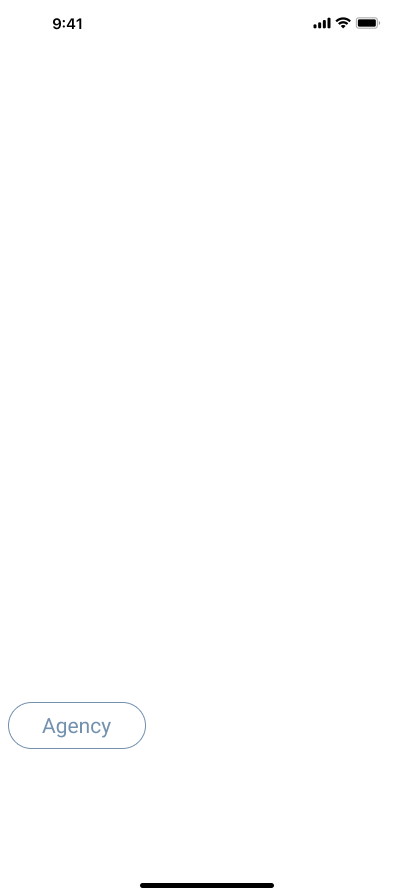Buttons: (8, 702, 154, 749)
Home Indicator: (0, 862, 414, 896)
Status Bar: (0, 0, 414, 44)
